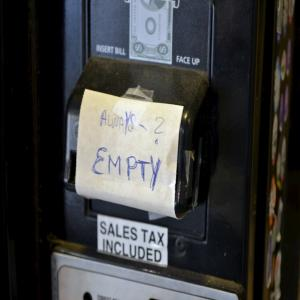Vehicle-registration-plate: (90, 226, 181, 269)
